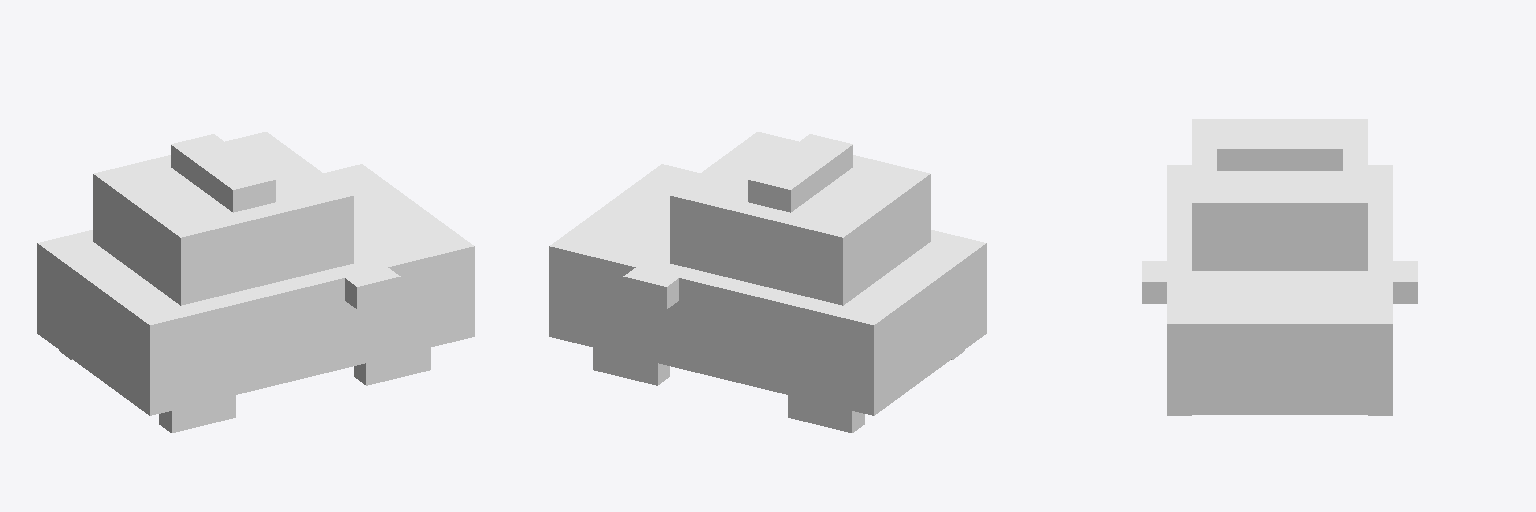
The model's file is greenCar.obj.
3 renders of one model, left to right at view 1: azimuth 30°, elevation 25°; view 2: azimuth 150°, elevation 25°; view 3: azimuth 270°, elevation 25°, orthographic.
Parts seen in each view (by area): view 1: greenCar; view 2: greenCar; view 3: greenCar.
Part boxes in pixels (bbox=[...]): greenCar: bbox=[37, 132, 474, 432]; greenCar: bbox=[549, 132, 986, 432]; greenCar: bbox=[1142, 119, 1417, 415].
Size of the model in its own units: 15 by 9 by 11.